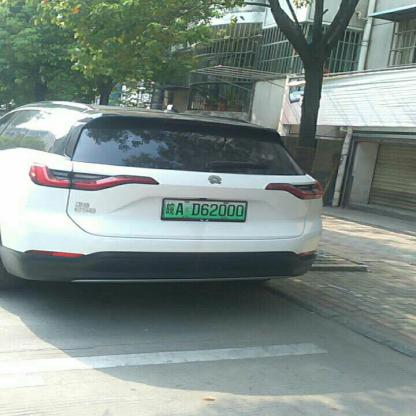lp: (163, 198, 246, 219)
